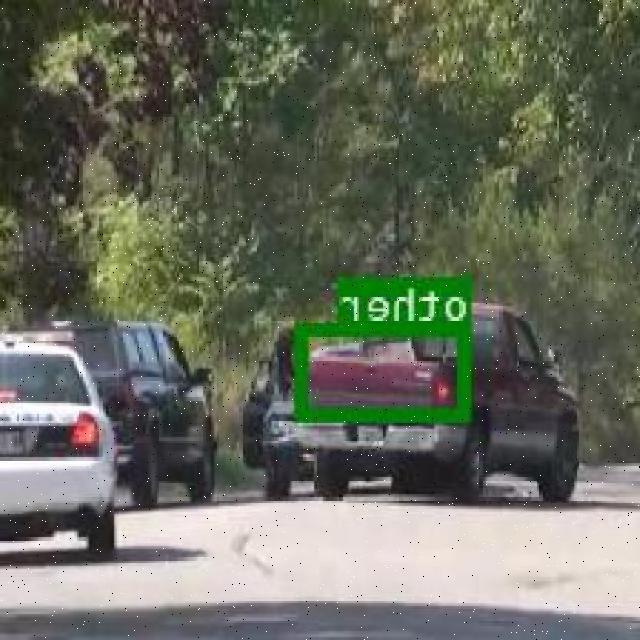other: (298, 322, 472, 418)
